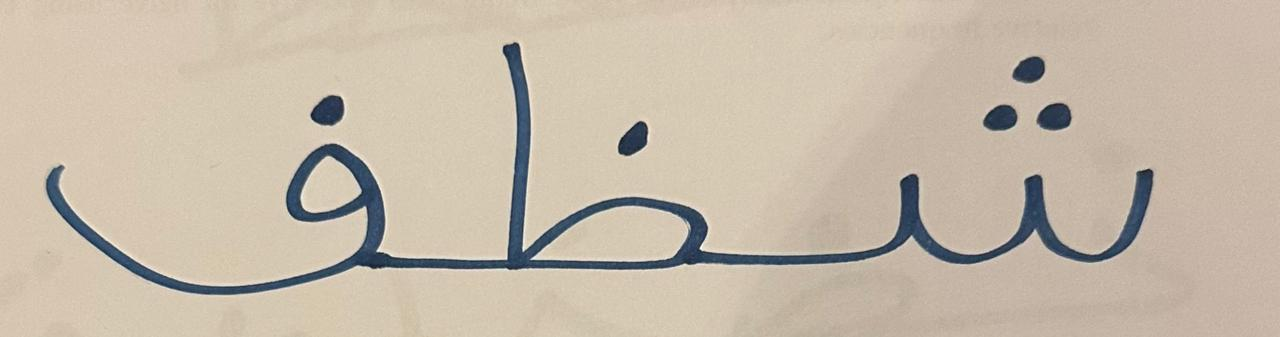feh: (16, 13, 413, 317)
tah: (773, 10, 1240, 313)
zain: (416, 7, 768, 316)
